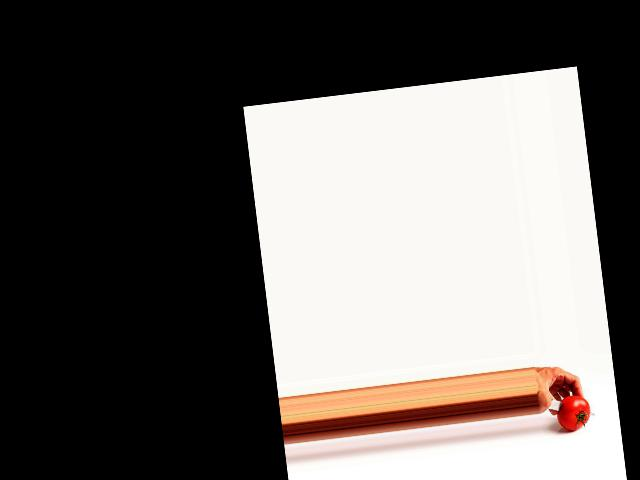tomato: (555, 393, 592, 432)
